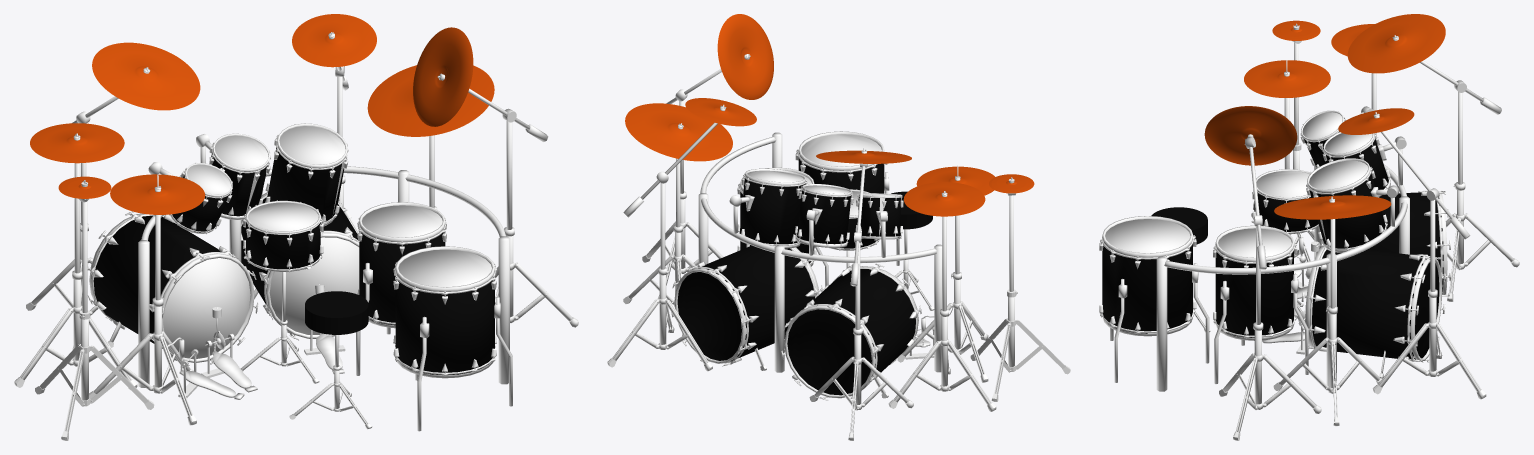
Rendered from Bateria_1_separada (1).FBX.
3 views of the same model, side by side, from view 1: azimuth 30°, elevation 25°; view 2: azimuth 150°, elevation 25°; view 3: azimuth 270°, elevation 25° (orthographic). The views are drawn at different scales.
Visible parts, largest first — view 1: geral, Preto, Pratos, branco; view 2: geral, Preto, Pratos, branco; view 3: geral, Preto, Pratos, branco.
Boxes of the visible parts, x1,y1,x2,y2 form: geral: (14, 32, 578, 440); Preto: (93, 147, 494, 374); Pratos: (30, 14, 494, 214); branco: (163, 126, 491, 359); geral: (607, 54, 1070, 440); Preto: (677, 157, 932, 395); Pratos: (625, 14, 1034, 216); branco: (743, 134, 894, 215); geral: (1099, 23, 1519, 440); Preto: (1102, 131, 1443, 359); Pratos: (1204, 14, 1445, 219); branco: (1105, 112, 1372, 257).
Size of the model in its own units: 227 by 135 by 179.
